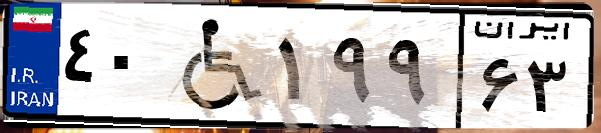0: (110, 28, 158, 98)
1: (270, 28, 330, 110)
3: (525, 38, 570, 115)
4: (57, 26, 110, 100)
6: (475, 38, 525, 113)
9: (385, 28, 445, 110), (330, 28, 385, 110)
ژ (معلولین و جانبازان): (158, 12, 270, 120)
